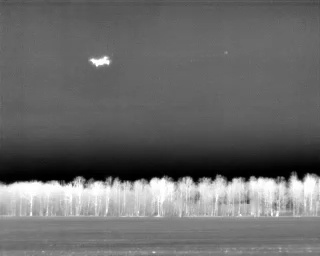DRONE: (86, 51, 115, 72)
